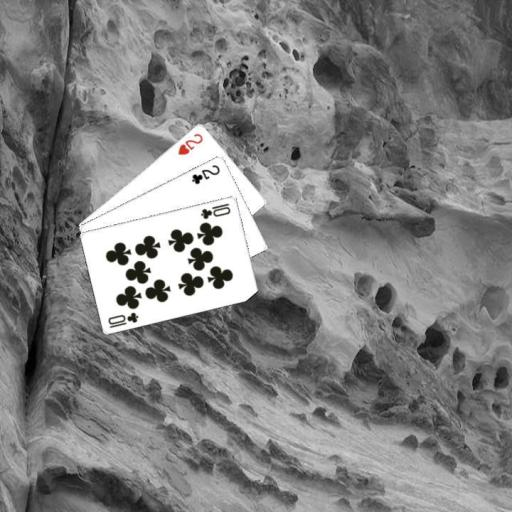10C: (105, 309, 140, 329), (198, 200, 232, 220)
2C: (189, 162, 221, 186)
2H: (175, 130, 205, 157)
